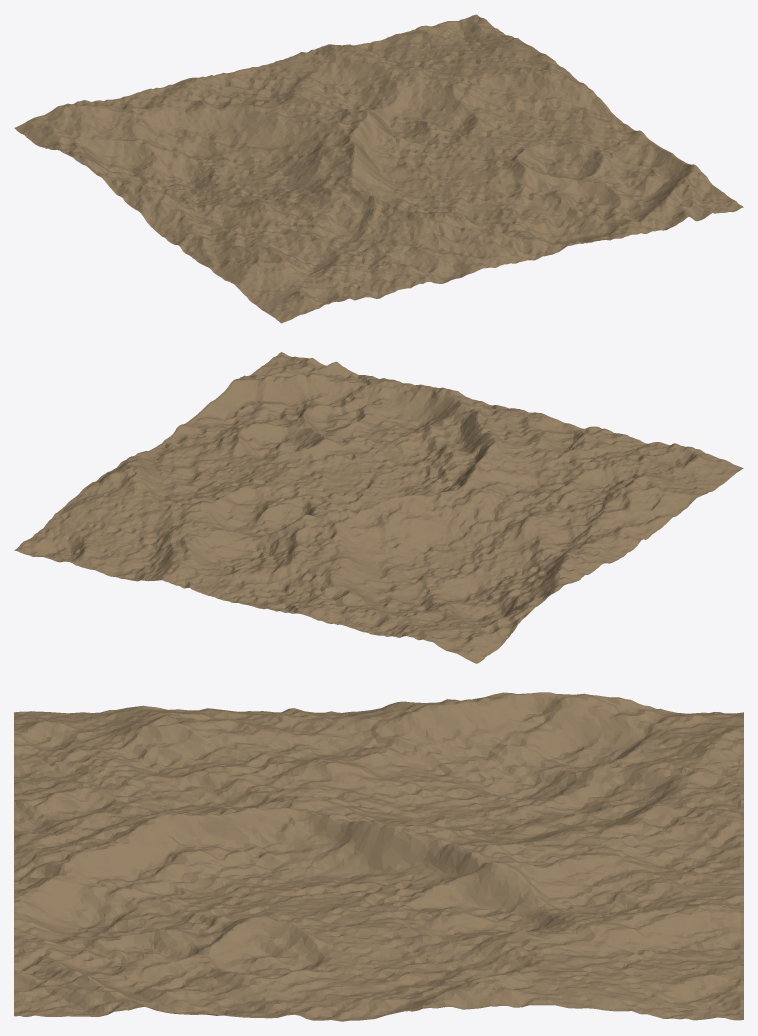
Rendered from LargeGround01.fbx.
3 views of the same model, one above another, from view 1: azimuth 30°, elevation 25°; view 2: azimuth 150°, elevation 25°; view 3: azimuth 270°, elevation 25° (orthographic). The views are drawn at different scales.
Parts seen in each view (by area): view 1: LargeGround01; view 2: LargeGround01; view 3: LargeGround01.
Boxes of the visible parts, x1,y1,x2,y2 form: LargeGround01: [14, 14, 743, 323]; LargeGround01: [14, 352, 743, 663]; LargeGround01: [14, 692, 743, 1021].
Size of the model in its own units: 450 by 35.3 by 450.
